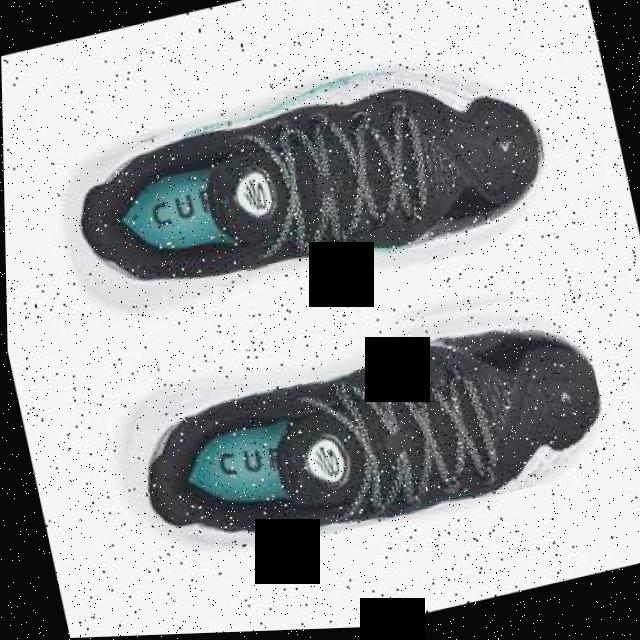shoe: (44, 33, 564, 345), (98, 270, 615, 579)
